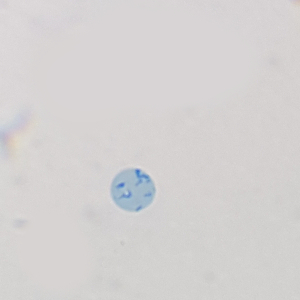aggregate reticulocyte: (109, 167, 157, 213)
